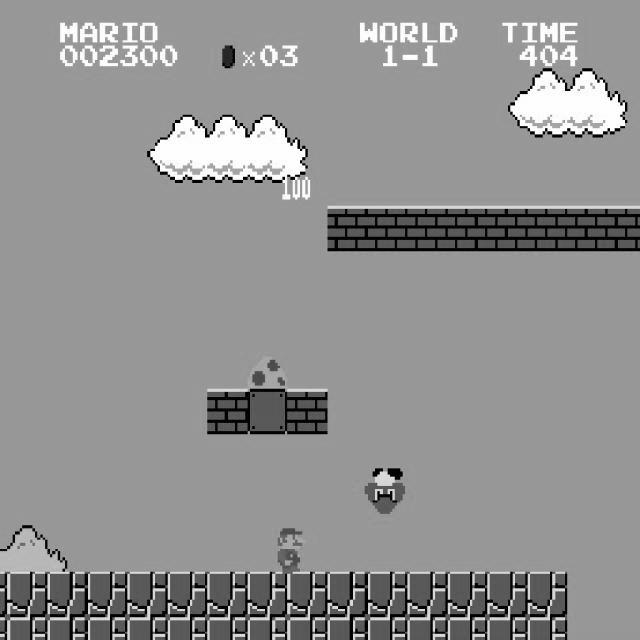1- brick_block: (207, 388, 248, 434), (287, 388, 328, 434), (327, 206, 368, 251), (367, 206, 408, 251), (407, 206, 448, 251), (447, 206, 488, 251), (487, 206, 528, 251), (527, 206, 568, 251), (567, 206, 608, 251), (607, 205, 640, 251)
11- little_mario: (268, 526, 310, 574)
12- mushroom: (245, 354, 288, 391)
17- undestructible_block: (7, 572, 48, 618), (47, 572, 88, 618), (87, 572, 128, 618), (127, 572, 168, 618), (167, 572, 208, 618), (207, 572, 248, 618), (247, 572, 288, 618), (287, 572, 328, 618), (327, 572, 368, 618), (367, 572, 408, 618), (407, 572, 448, 618), (447, 572, 488, 618), (487, 572, 528, 618), (527, 572, 568, 618), (7, 617, 48, 640), (47, 617, 88, 640), (87, 617, 128, 640), (127, 617, 168, 640), (167, 617, 208, 640), (207, 617, 248, 640), (247, 617, 288, 640), (287, 617, 328, 640), (327, 617, 368, 640), (367, 617, 408, 640), (407, 617, 448, 640), (447, 617, 488, 640), (487, 617, 528, 640), (527, 617, 568, 640), (0, 572, 7, 618), (0, 617, 7, 640)
3- empty_block: (247, 388, 288, 434)
